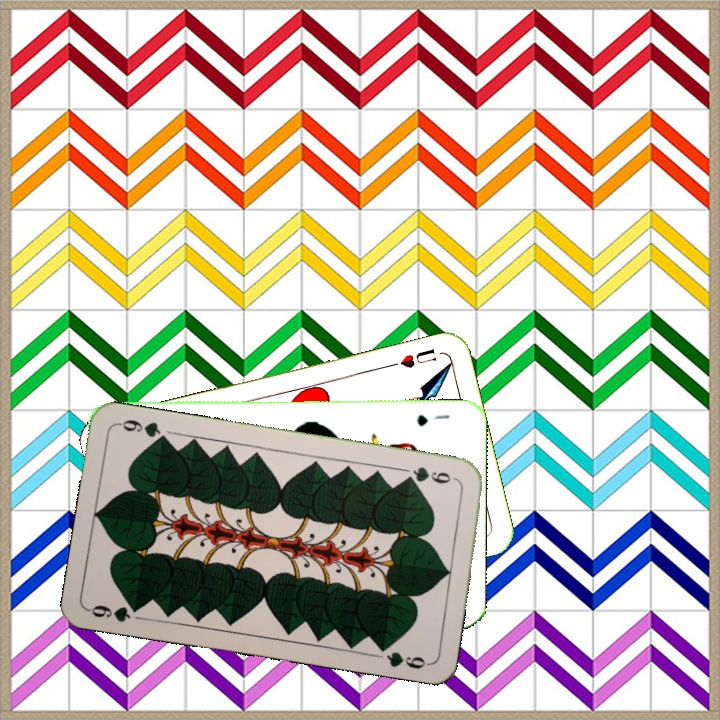G9: (85, 600, 146, 625), (399, 462, 454, 487)
GU: (413, 410, 452, 428)
HU: (385, 344, 439, 371)
